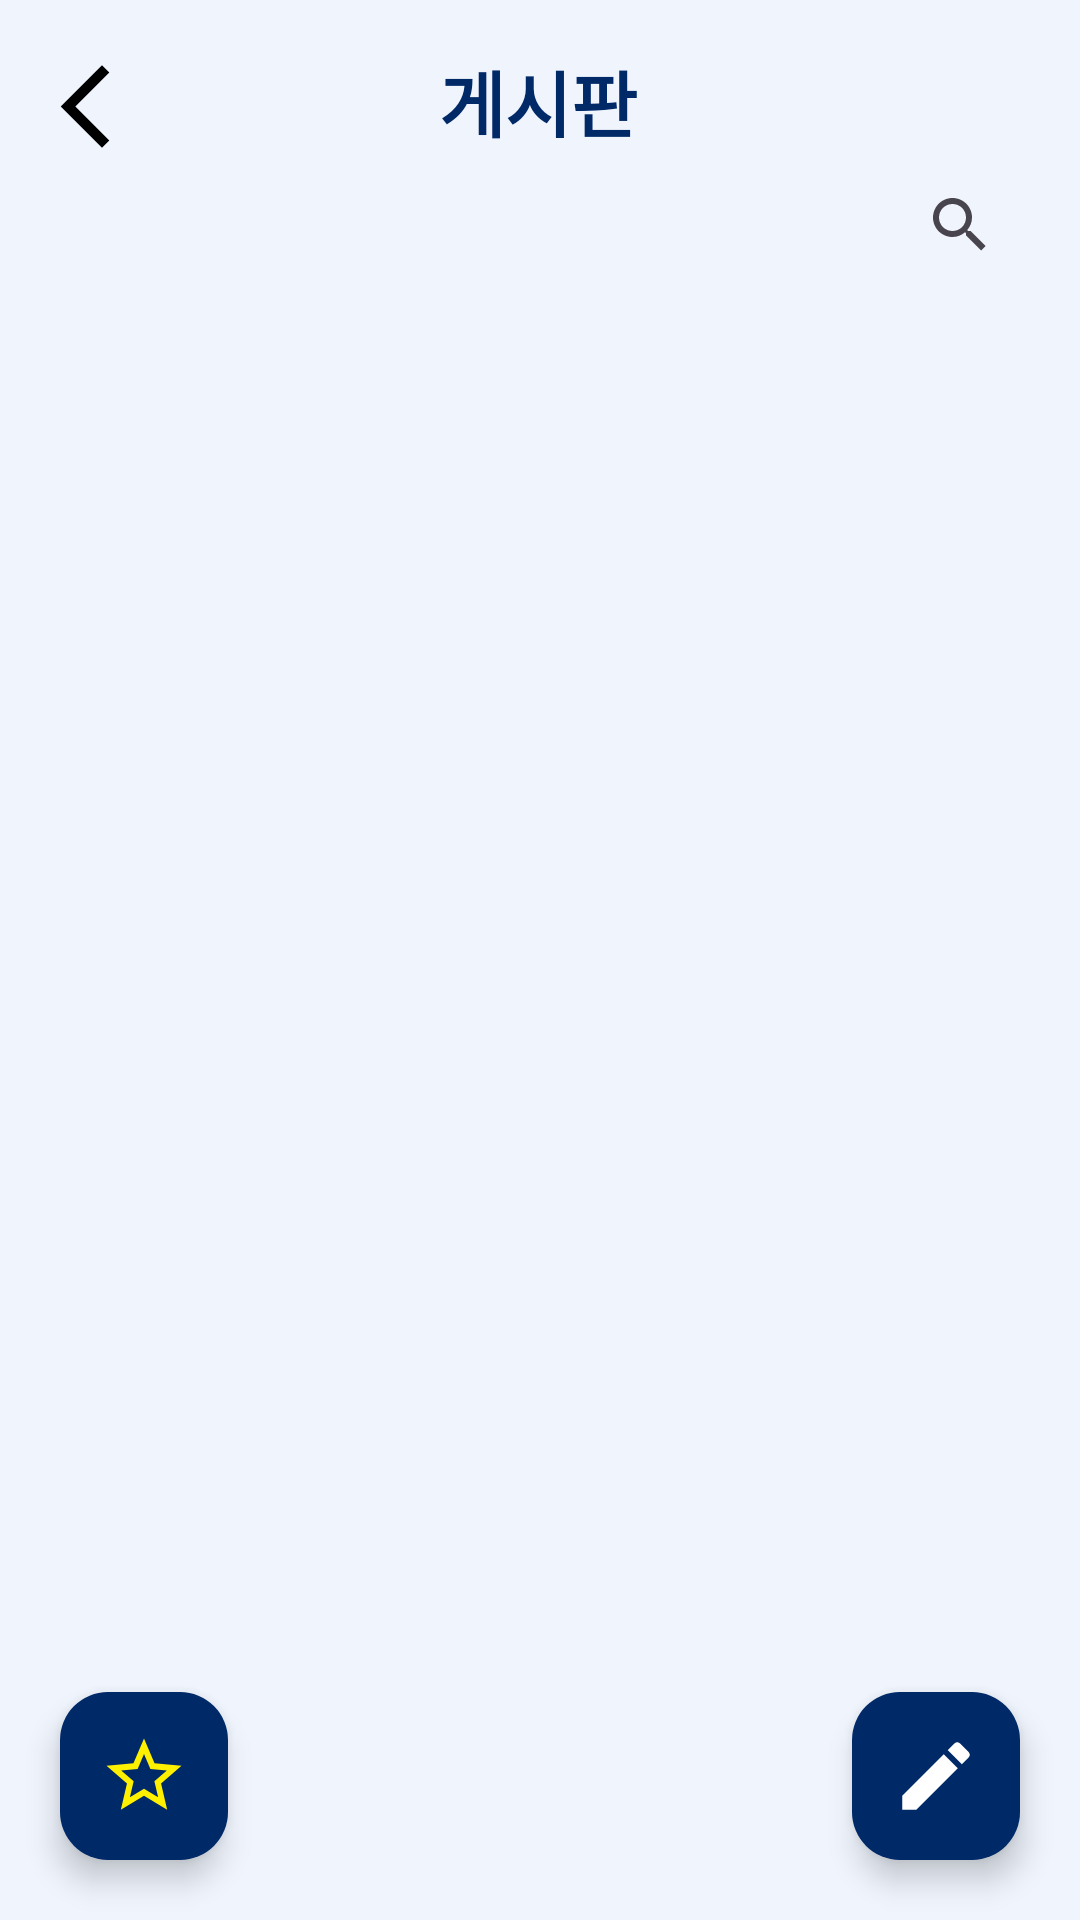

Icons on this 1080 × 1920 Android screen, each with the point to tap as point (x, y):
back: point (85, 106)
blank star: point (144, 1776)
edit: point (936, 1776)
